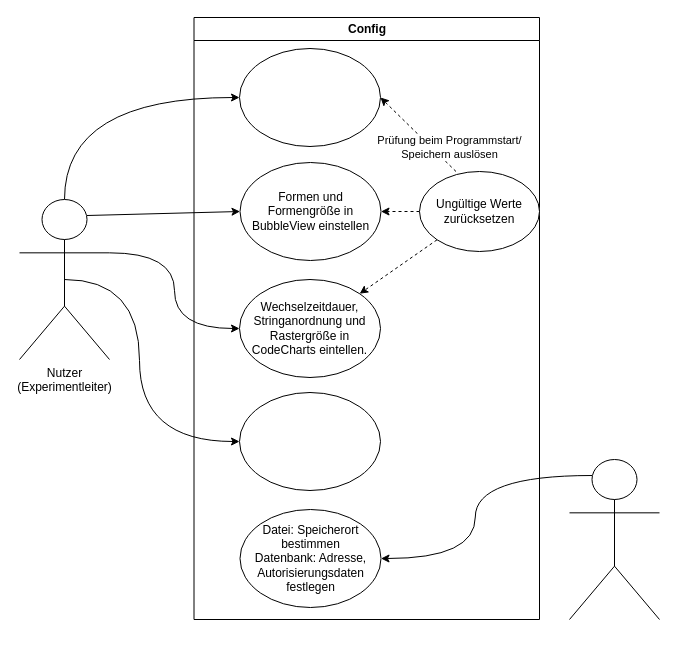
This 677x658 diagram has some shape labels left out. The shapes that lost their labels are listed below. From the top down, each one's centre as x and y in pixels, then its label:
At pixel 309 97: "Filtertyp und Filterstärke in BubbleView einstellen".
At pixel 309 441: "Einstellungen speichern".
At pixel 614 539: "Administrator".
